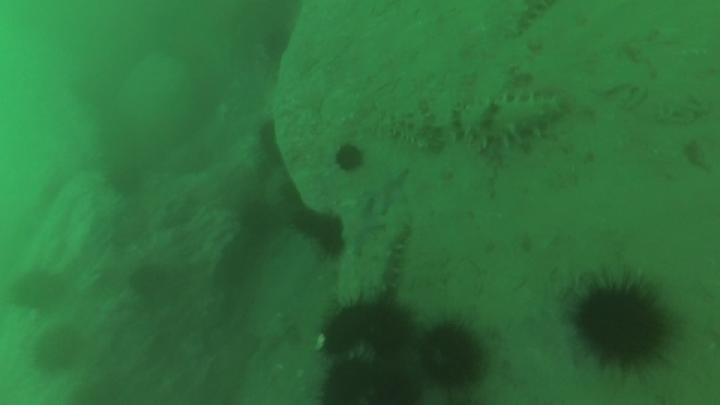echinus: (569, 273, 674, 373), (416, 319, 488, 391), (319, 356, 380, 404), (291, 206, 346, 257), (10, 266, 67, 314), (31, 324, 85, 374), (370, 300, 414, 360), (366, 362, 422, 405), (321, 304, 369, 351), (236, 197, 279, 239), (103, 159, 148, 199), (127, 262, 170, 300), (254, 117, 284, 166), (259, 25, 294, 63), (332, 141, 367, 175)
holothurian: (447, 90, 567, 151), (364, 105, 447, 151), (372, 218, 413, 298), (503, 1, 557, 40)
starfish: (336, 198, 387, 256), (366, 165, 412, 215)
